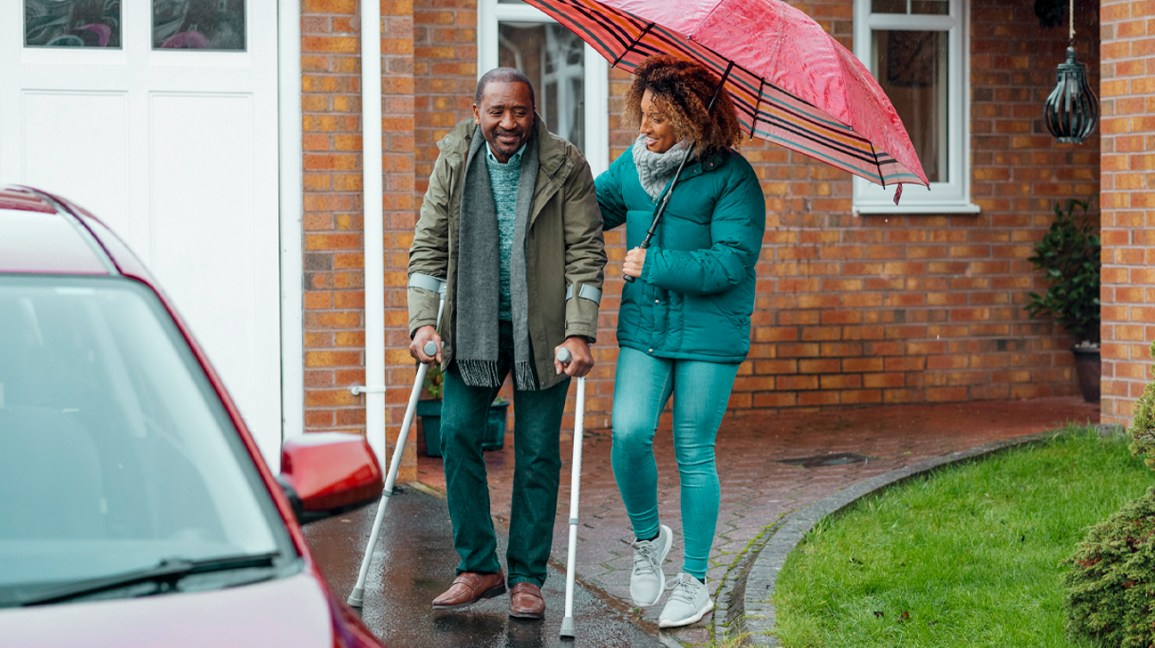crutches: (342, 64, 607, 642)
